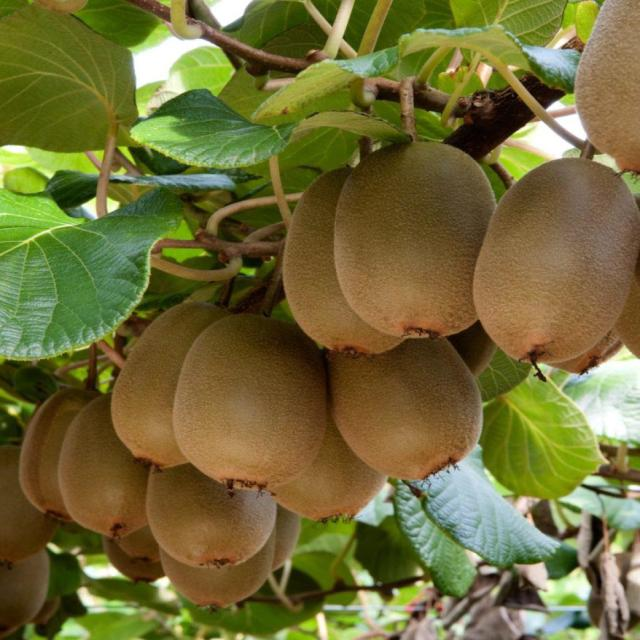kiwi: (469, 156, 640, 371), (323, 139, 503, 340), (174, 309, 336, 501), (275, 159, 425, 365), (321, 326, 484, 483), (106, 285, 237, 476), (136, 454, 280, 568), (60, 392, 169, 539), (267, 421, 398, 531), (563, 1, 640, 182), (22, 385, 102, 532), (2, 438, 68, 577), (166, 539, 281, 616), (559, 304, 639, 392), (1, 540, 66, 640), (107, 526, 172, 572)
